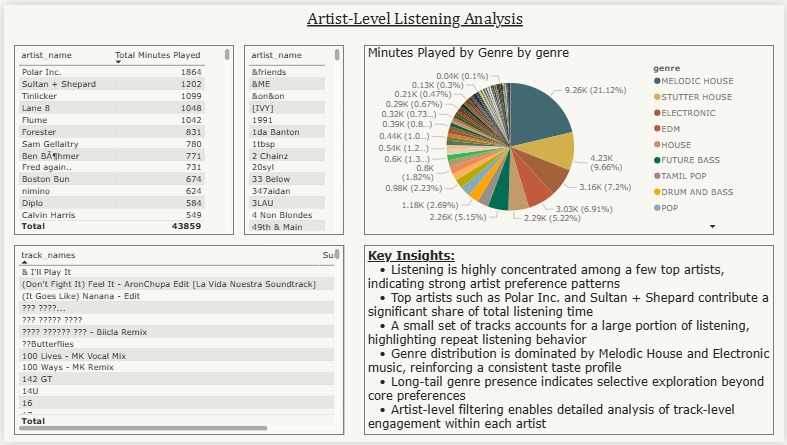

The page's visual inventory and layout, read from the dashboard file:
{"tool":"powerbi","page":{"name":"Artist-Level Listening Analysis","canvas":[1250,700],"ordinal":1},"visuals":[{"type":"tableEx","fields":{"Values":["artist_table.artist_name","Dim_Date.Total Minutes Played"]},"box":[16,64,352,304],"z":0},{"type":"tableEx","fields":{"Values":["tracks_table.track_names","Sum(fact_listening_events3.MinutesPlayed)"]},"box":[16,384,528,304],"z":1000},{"type":"pieChart","fields":{"Y":["Sum(fact_listening_events3.MinutesPlayed)"],"Category":["artist_table.genre "]},"box":[576,64,656,304],"z":2000},{"type":"tableEx","fields":{"Values":["artist_table.artist_name"]},"box":[384,64,160,304],"z":3000},{"type":"textbox","box":[576,384,656,304],"z":4000},{"type":"textbox","box":[480,0,400,48],"z":5000}]}

Visuals, with their boxes in screenshot pixels (x1, y1, x2, y2), scaled from the page's 1250x700 canvas onto the 787x445 screenshot:
tableEx - artist_table.artist_name x Dim_Date.Total Minutes Played: BBox(10, 41, 232, 234)
tableEx - tracks_table.track_names x Sum(fact_listening_events3.MinutesPlayed): BBox(10, 244, 343, 437)
pieChart - Sum(fact_listening_events3.MinutesPlayed) x artist_table.genre : BBox(363, 41, 776, 234)
tableEx - artist_table.artist_name: BBox(242, 41, 343, 234)
textbox: BBox(363, 244, 776, 437)
textbox: BBox(302, 0, 554, 31)
